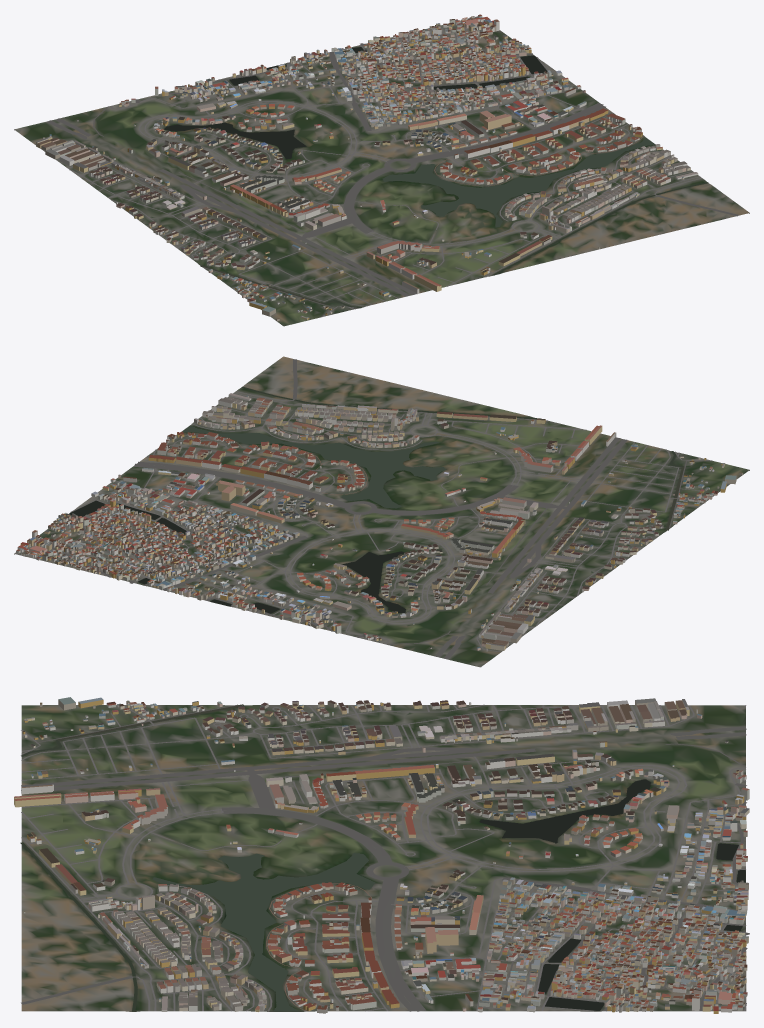
3 renders of one model, top to bottom at view 1: azimuth 30°, elevation 25°; view 2: azimuth 150°, elevation 25°; view 3: azimuth 270°, elevation 25°, orthographic. The views are drawn at different scales.
Parts seen in each view (by area): view 1: ground, buildings, roads, water; view 2: ground, buildings, roads, water; view 3: ground, buildings, roads, water.
Boxes of the visible parts, box(x1,y1,x2,y2) form: ground: box(14, 17, 749, 326); buildings: box(36, 14, 698, 321); roads: box(14, 16, 738, 317); water: box(164, 47, 708, 307); ground: box(14, 356, 749, 666); buildings: box(16, 392, 742, 651); roads: box(14, 359, 711, 667); water: box(69, 386, 684, 613); ground: box(21, 705, 746, 1011); buildings: box(14, 697, 749, 1013); roads: box(21, 704, 749, 1011); water: box(20, 704, 745, 1011).
Bounding box in the file's own units: 1425 × 31.02 × 1424.
